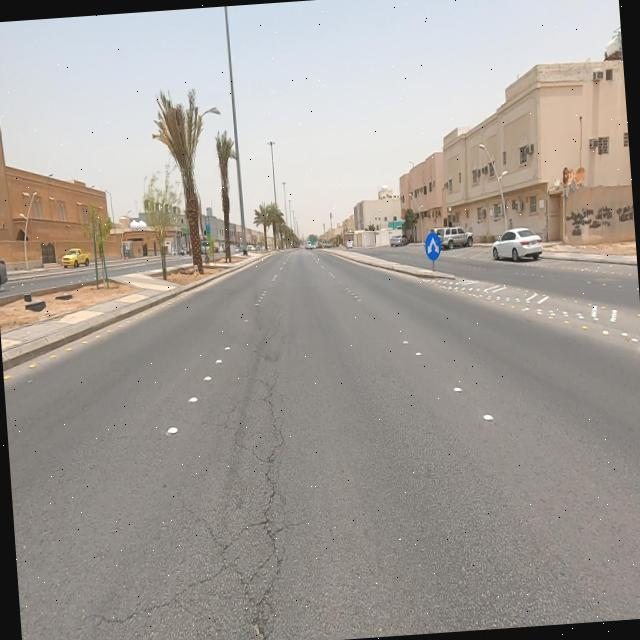Graffiti: (565, 206, 613, 238), (617, 205, 636, 229)
